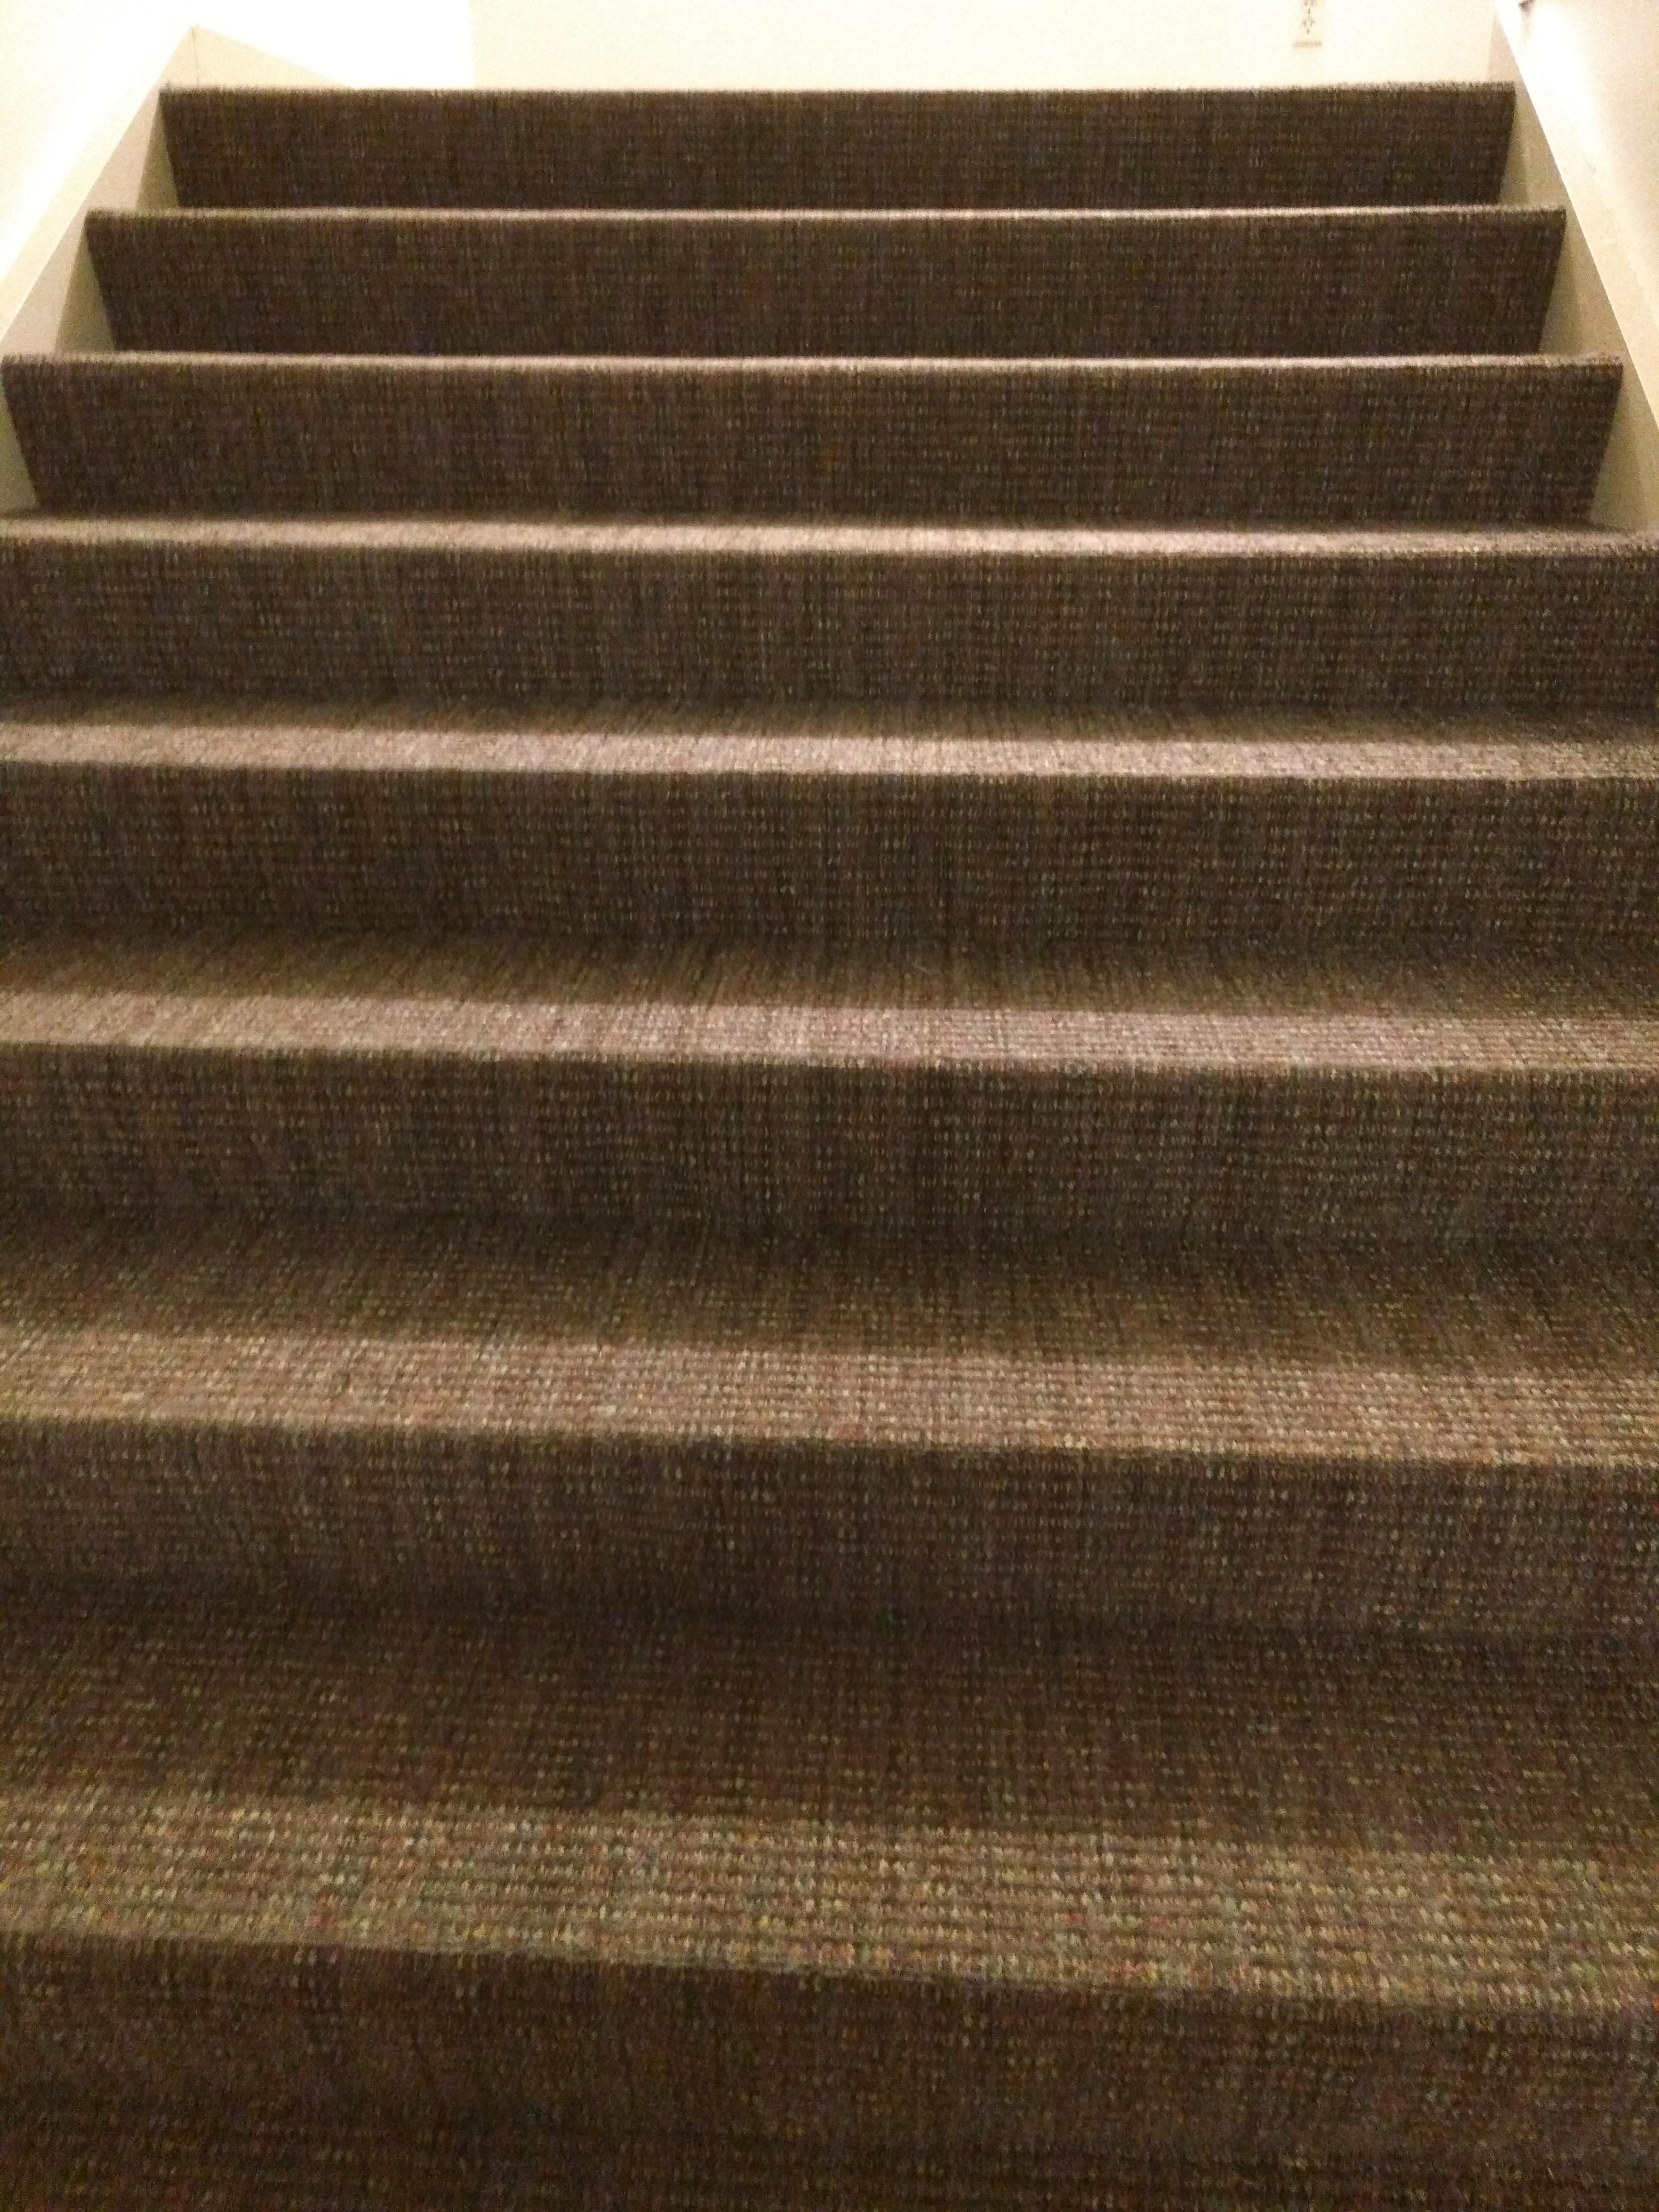stairs_up: (3, 61, 1659, 2113)
